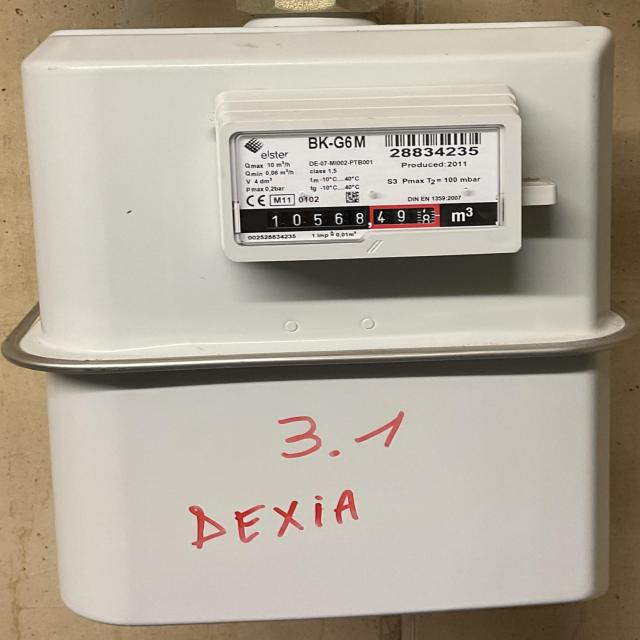gaz_meter: (228, 130, 507, 231)
indication: (249, 201, 444, 231)
